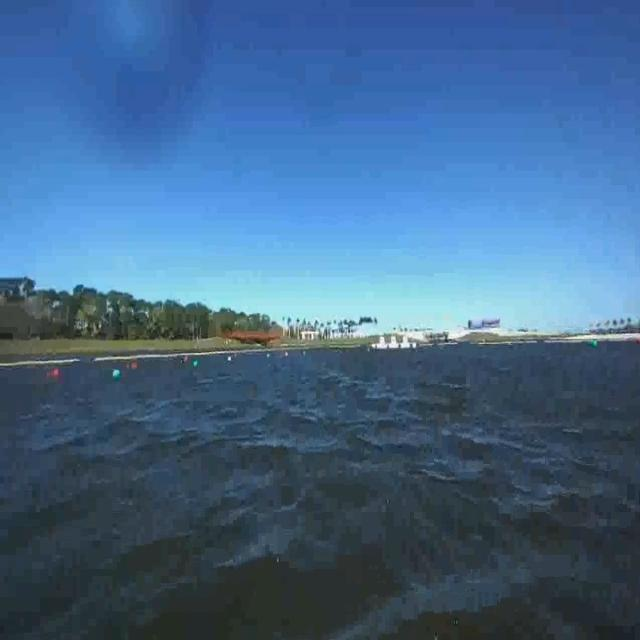green-buoy: (112, 368, 121, 380), (592, 340, 599, 350), (192, 358, 198, 368)
